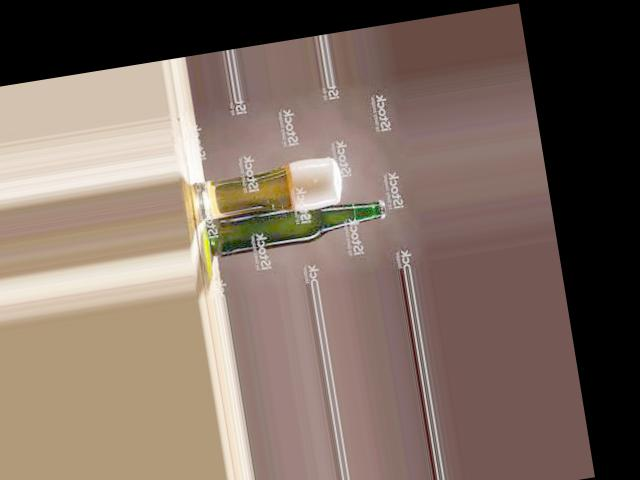beer: (204, 190, 388, 258)
